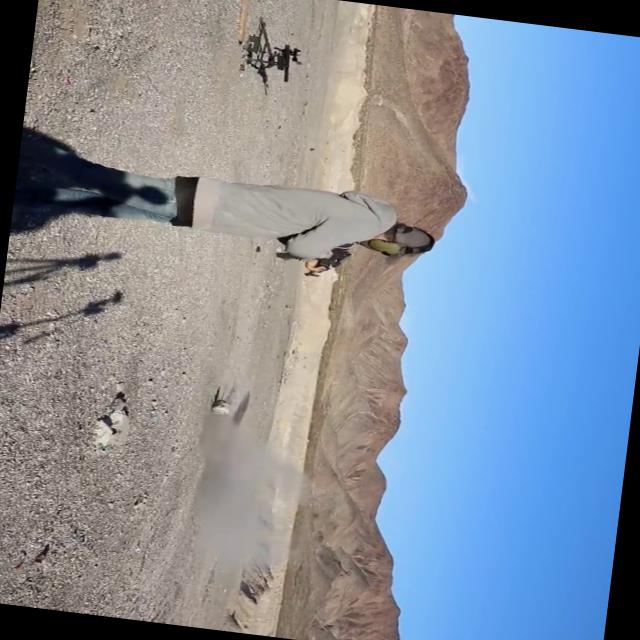long weapon: (262, 226, 357, 292), (234, 35, 314, 98)
